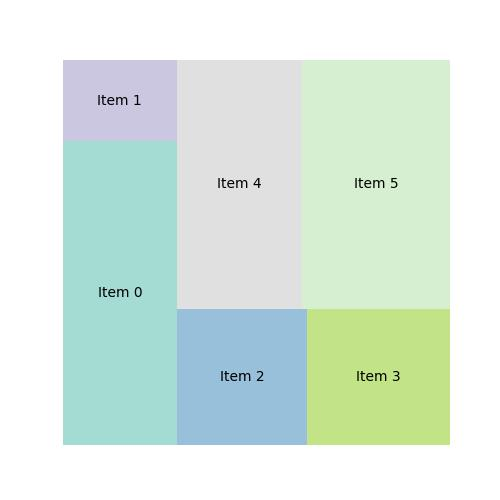rectangle: (301, 59, 451, 308), (63, 143, 177, 446), (176, 59, 303, 310), (306, 308, 450, 446), (179, 309, 309, 446), (62, 57, 178, 142)
